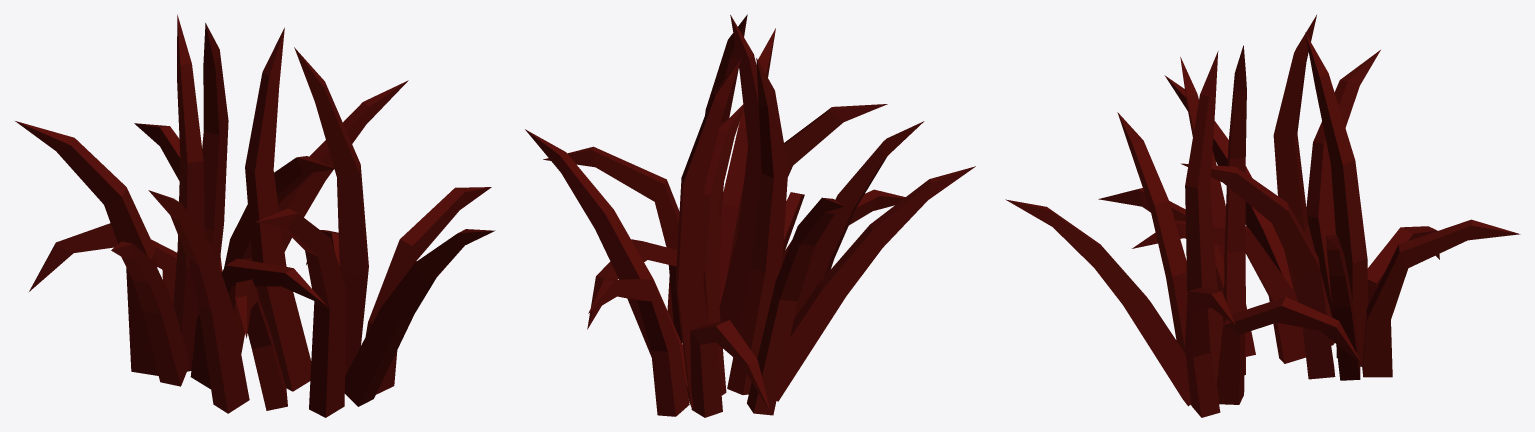
Rendered from burning-grass.glb.
3 renders of one model, left to right at view 1: azimuth 30°, elevation 25°; view 2: azimuth 150°, elevation 25°; view 3: azimuth 270°, elevation 25°, orthographic. The views are drawn at different scales.
Visible parts, largest first — view 1: Cube.013; view 2: Cube.013; view 3: Cube.013.
Boxes of the visible parts, left/top/right/bottom form: Cube.013: left=15, top=14, right=495, bottom=417; Cube.013: left=525, top=14, right=975, bottom=417; Cube.013: left=1005, top=15, right=1520, bottom=417.
Bounding box in the file's own units: 0.2005 × 0.1686 × 0.2316.
